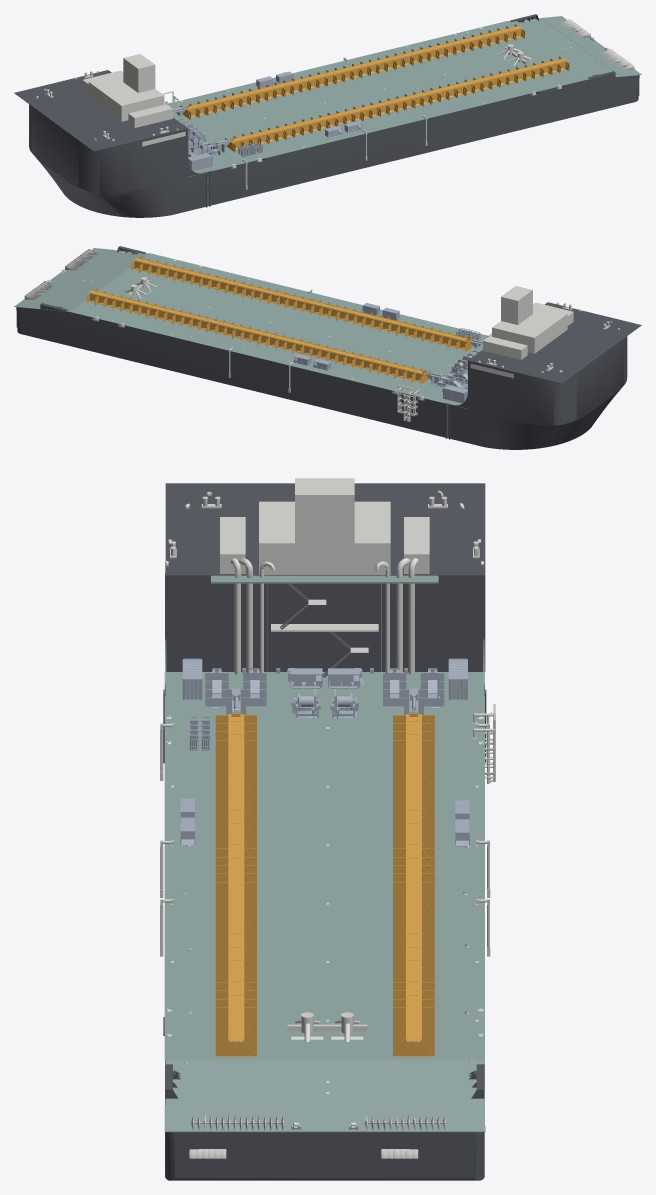
Rendered from barge.glb.
3 renders of one model, top to bottom at view 1: azimuth 30°, elevation 25°; view 2: azimuth 150°, elevation 25°; view 3: azimuth 270°, elevation 25°, orthographic. The views are drawn at different scales.
Parts seen in each view (by area): view 1: barge; view 2: barge; view 3: barge.
Boxes of the visible parts, left/top/right/bottom form: barge: left=14, top=14, right=641, bottom=217; barge: left=14, top=246, right=641, bottom=449; barge: left=160, top=478, right=495, bottom=1180.
Size of the model in its own units: 143 by 30.62 by 37.83.
